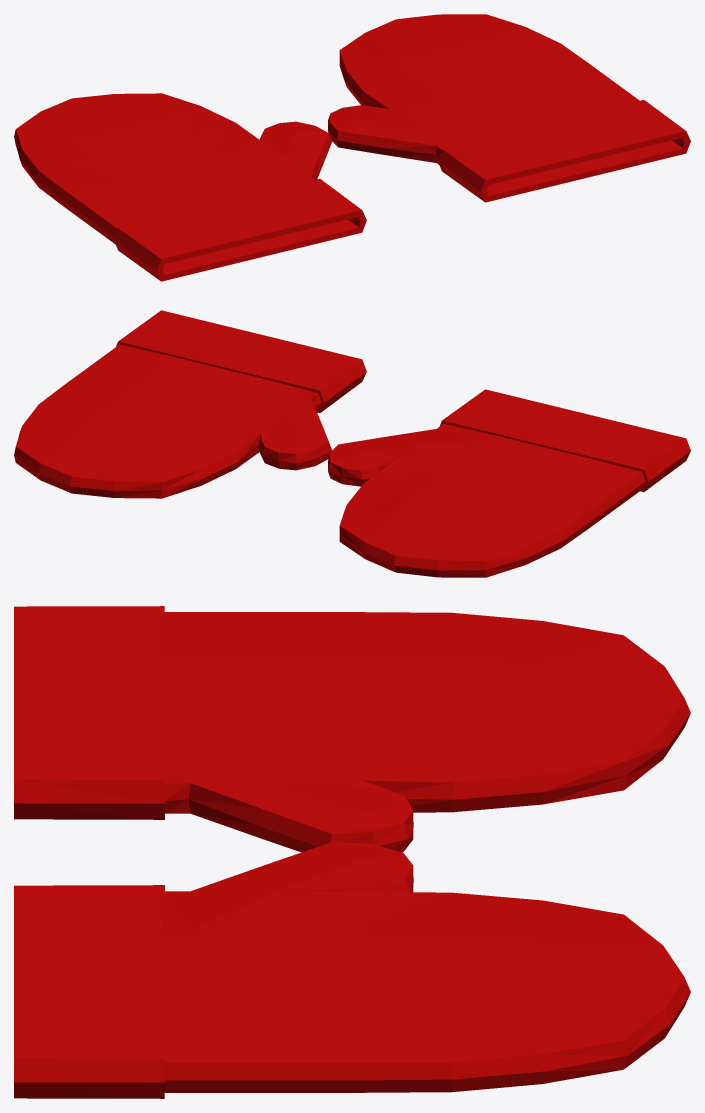
The model's file is d43ef002-3daf-4e57-9fe1-60509a4dd111.glb.
The picture shows the model from 3 angles, top to bottom: view 1: azimuth 30°, elevation 25°; view 2: azimuth 150°, elevation 25°; view 3: azimuth 270°, elevation 25°; orthographic projection. The views are drawn at different scales.
Visible parts, largest first — view 1: Node; view 2: Node; view 3: Node.
Boxes of the visible parts, x1,y1,x2,y2 form: Node: [14, 14, 690, 281]; Node: [14, 310, 690, 577]; Node: [14, 606, 690, 1098].
Bounding box in the file's own units: 2.27 × 0.0915 × 1.41.
